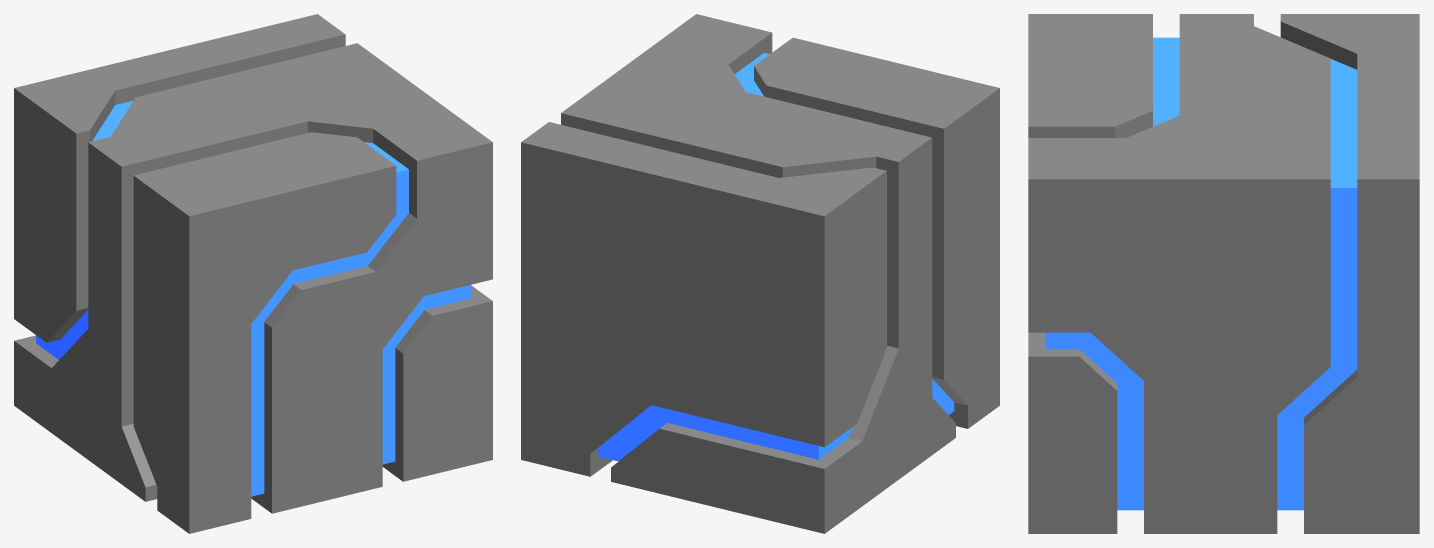
3 views of the same model, side by side, from view 1: azimuth 30°, elevation 25°; view 2: azimuth 150°, elevation 25°; view 3: azimuth 270°, elevation 25° (orthographic). The views are drawn at different scales.
Visible parts, largest first — view 1: Cube, 立方体; view 2: Cube, 立方体; view 3: Cube, 立方体.
Part boxes in pixels (left/top/right/bottom): Cube: left=14, top=14, right=492, bottom=533; 立方体: left=36, top=100, right=470, bottom=496; Cube: left=521, top=14, right=999, bottom=533; 立方体: left=598, top=53, right=954, bottom=461; Cube: left=1028, top=14, right=1419, bottom=533; 立方体: left=1046, top=37, right=1357, bottom=510.
Size of the model in its own units: 1.1 by 1.1 by 1.1.
